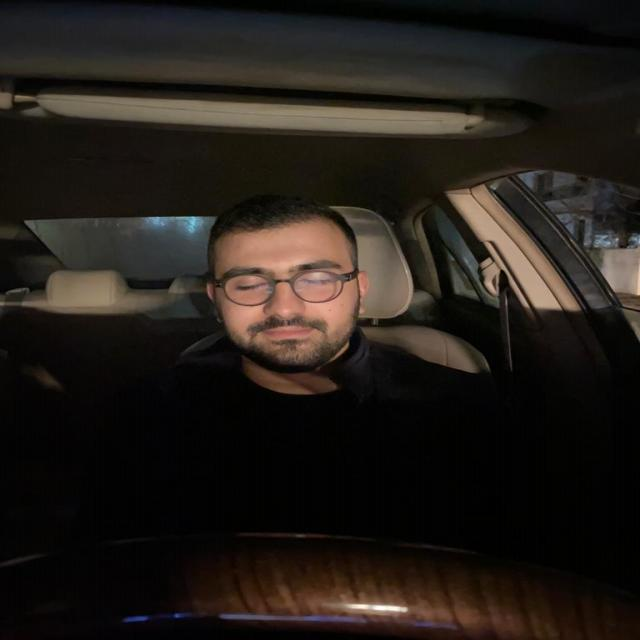drowsy: (200, 187, 379, 375)
